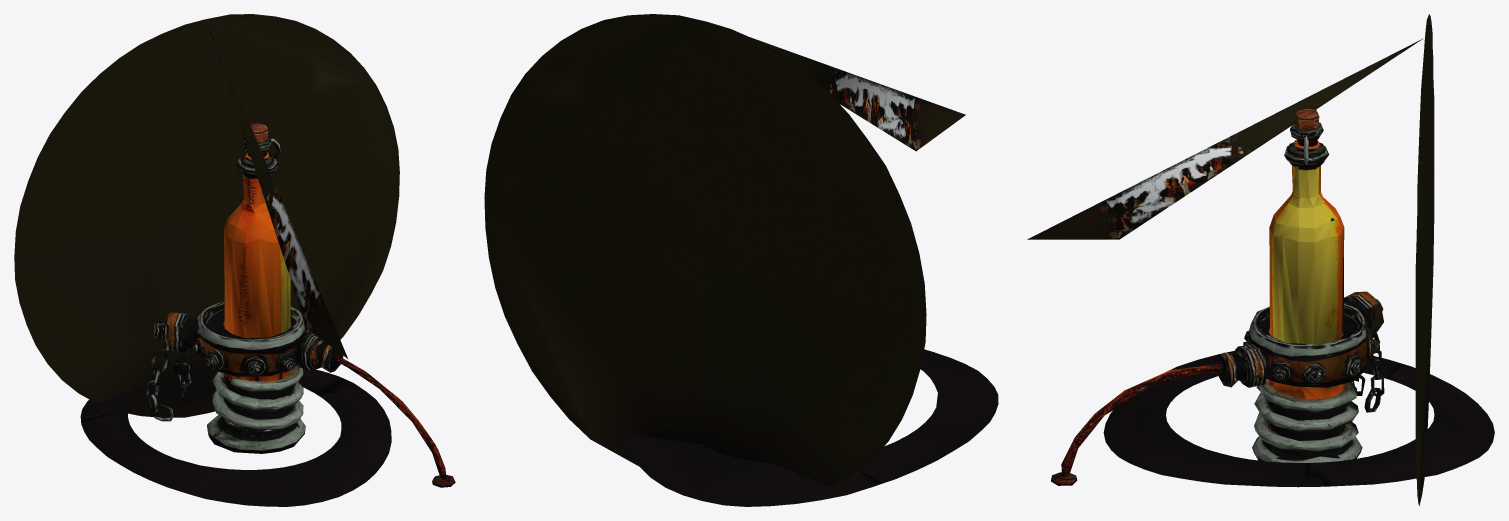
File: wpn_molotov.glb
3 views of the same model, side by side, from view 1: azimuth 30°, elevation 25°; view 2: azimuth 150°, elevation 25°; view 3: azimuth 270°, elevation 25° (orthographic). The views are drawn at different scales.
Parts seen in each view (by area): view 1: tripo_node_c1a01408; view 2: tripo_node_c1a01408; view 3: tripo_node_c1a01408.
Part boxes in pixels (x1,y1,x2,y2): tripo_node_c1a01408: (14, 14, 455, 506); tripo_node_c1a01408: (484, 14, 998, 506); tripo_node_c1a01408: (1027, 14, 1494, 505).
Bounding box in the file's own units: 0.998 × 0.998 × 0.9668.
1 material, 1 textured.
